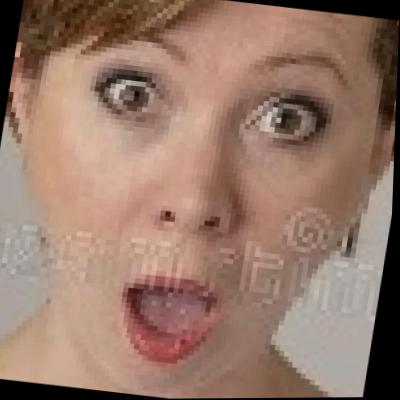surprise: (20, 0, 388, 389)
